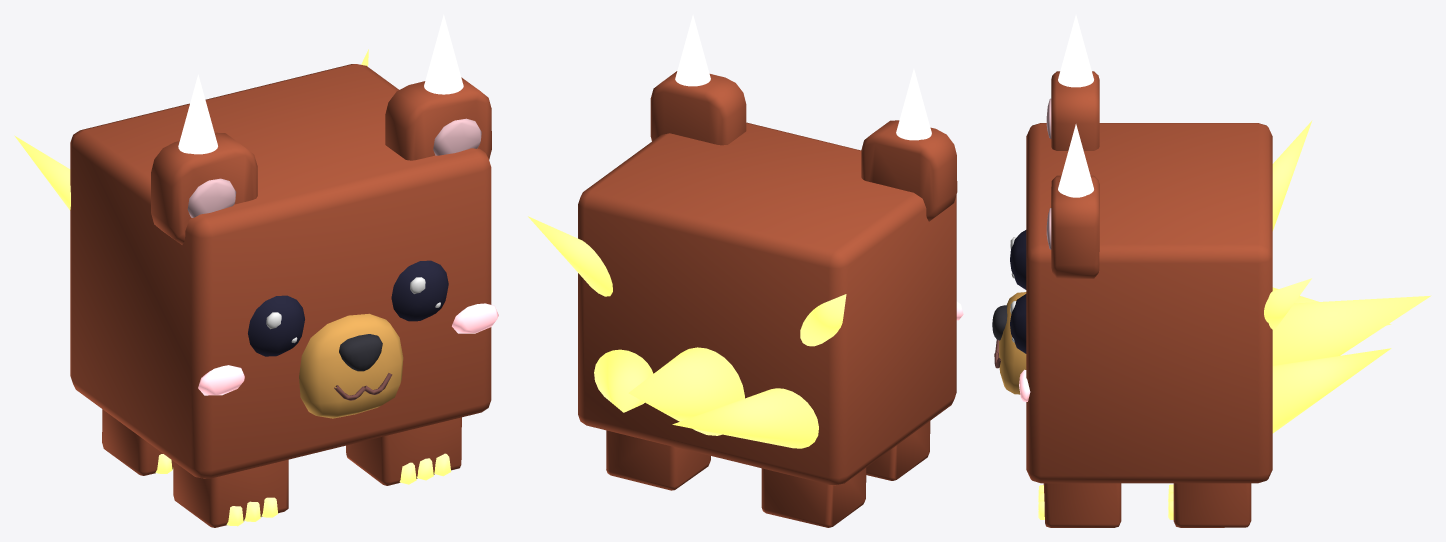
The model's file is Pet_Phoenix.fbx.
3 renders of one model, left to right at view 1: azimuth 30°, elevation 25°; view 2: azimuth 150°, elevation 25°; view 3: azimuth 270°, elevation 25°, orthographic. The views are drawn at different scales.
Parts seen in each view (by area): view 1: Pet_Phoenix_body, Pet_Phoenix_ears, Pet_Phoenix_feet, Pet_Phoenix_muzzle, Pet_Phoenix_eyes, Pet_Phoenix, Pet_Phoenix_toes, Pet_Phoenix_acc_ear_flame-1, Pet_Phoenix_acc_ear_flame1, Pet_Phoenix_cute_innerear_-1, Pet_Phoenix_nose, Pet_Phoenix_acc_shoulder_flame-1 (+1 smaller); view 2: Pet_Phoenix_body, Pet_Phoenix_ears, Pet_Phoenix_feet, Pet_Phoenix_acc_tail_main, Pet_Phoenix_acc_tail_side-1, Pet_Phoenix_acc_tail_side1, Pet_Phoenix_acc_shoulder_flame1, Pet_Phoenix_acc_shoulder_flame-1, Pet_Phoenix_acc_ear_flame-1, Pet_Phoenix_acc_ear_flame1; view 3: Pet_Phoenix_body, Pet_Phoenix_ears, Pet_Phoenix_feet, Pet_Phoenix_acc_tail_main, Pet_Phoenix_acc_tail_side1, Pet_Phoenix_eyes, Pet_Phoenix_acc_ear_flame1, Pet_Phoenix_acc_ear_flame-1, Pet_Phoenix_acc_shoulder_flame-1, Pet_Phoenix_muzzle, Pet_Phoenix_acc_shoulder_flame1, Pet_Phoenix.
Boxes of the visible parts, x1,y1,x2,y2 form: Pet_Phoenix_body: (70,64,491,478); Pet_Phoenix_ears: (151,77,491,244); Pet_Phoenix_feet: (102,409,461,527); Pet_Phoenix_muzzle: (299,313,403,418); Pet_Phoenix_eyes: (248,260,448,356); Pet_Phoenix: (410,118,498,333); Pet_Phoenix_toes: (155,453,451,526); Pet_Phoenix_acc_ear_flame-1: (178,74,217,154); Pet_Phoenix_acc_ear_flame1: (424,14,463,94); Pet_Phoenix_cute_innerear_-1: (187,178,236,217); Pet_Phoenix_nose: (339,334,382,371); Pet_Phoenix_acc_shoulder_flame-1: (14,135,70,210); Pet_Phoenix_body: (578,122,956,485); Pet_Phoenix_ears: (650,71,957,221); Pet_Phoenix_feet: (606,421,930,527); Pet_Phoenix_acc_tail_main: (628,347,744,435); Pet_Phoenix_acc_tail_side-1: (672,388,818,448); Pet_Phoenix_acc_tail_side1: (594,349,653,412); Pet_Phoenix_acc_shoulder_flame1: (528,216,612,296); Pet_Phoenix_acc_shoulder_flame-1: (800,294,846,346); Pet_Phoenix_acc_ear_flame-1: (896,68,931,140); Pet_Phoenix_acc_ear_flame1: (675,14,710,86); Pet_Phoenix_body: (1026,123,1272,483); Pet_Phoenix_ears: (1051,71,1099,278); Pet_Phoenix_feet: (1043,483,1251,527); Pet_Phoenix_acc_tail_main: (1272,295,1431,365); Pet_Phoenix_acc_tail_side1: (1272,348,1391,433); Pet_Phoenix_eyes: (1010,230,1026,353); Pet_Phoenix_acc_ear_flame1: (1058,124,1093,197); Pet_Phoenix_acc_ear_flame-1: (1058,14,1093,87); Pet_Phoenix_acc_shoulder_flame-1: (1272,120,1312,230); Pet_Phoenix_muzzle: (999,292,1026,394); Pet_Phoenix_acc_shoulder_flame1: (1264,278,1311,332); Pet_Phoenix: (1010,208,1051,401).
Bounding box in the file's own units: 2.6 × 3.12 × 3.06.
Materials: 13 (3 with a texture image).
